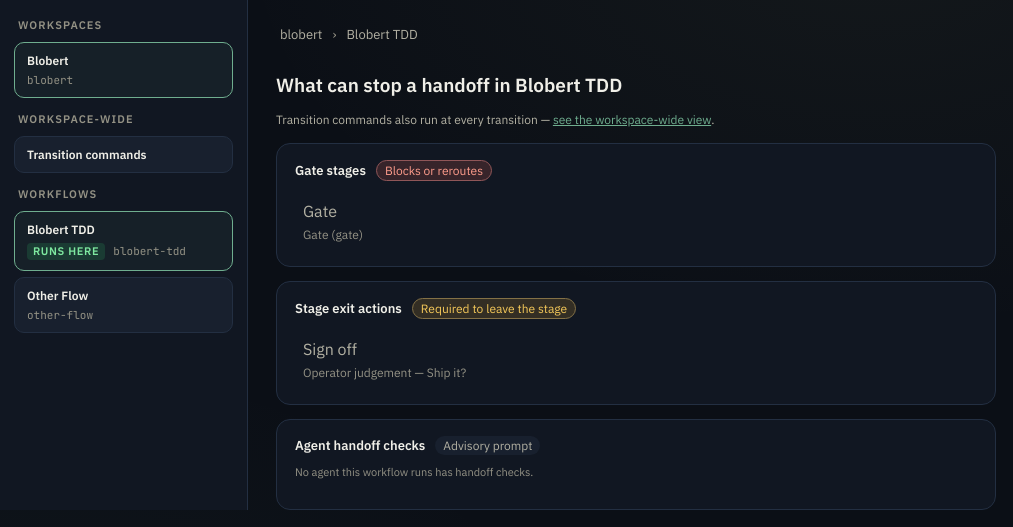
Test: GateStudioPanel › renders the same detail from a deep link as from clicking through
Click the link "Sign off": (330, 349) [303,339,357,359]
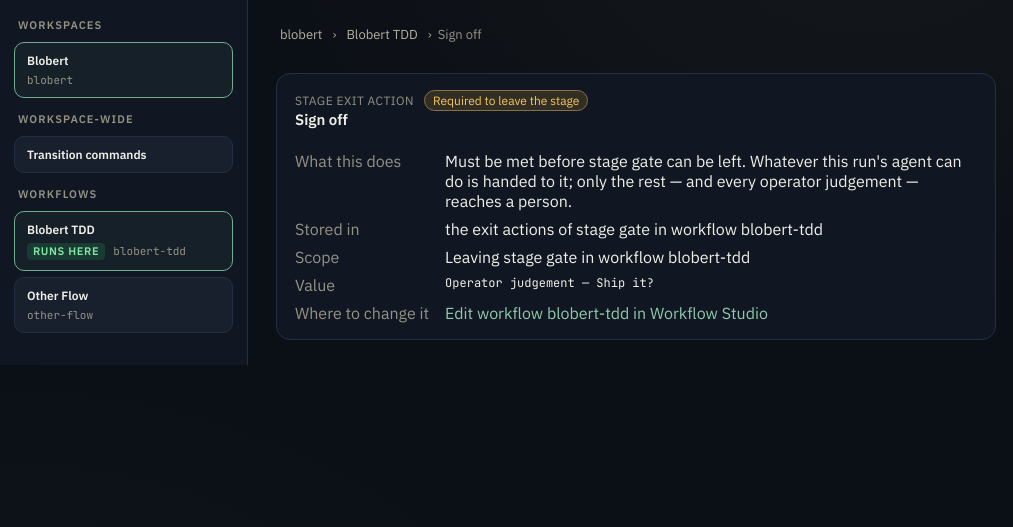
Check: the element "Sign off" shows "Operator judgement — Ship it?", box [445,275,654,291]
